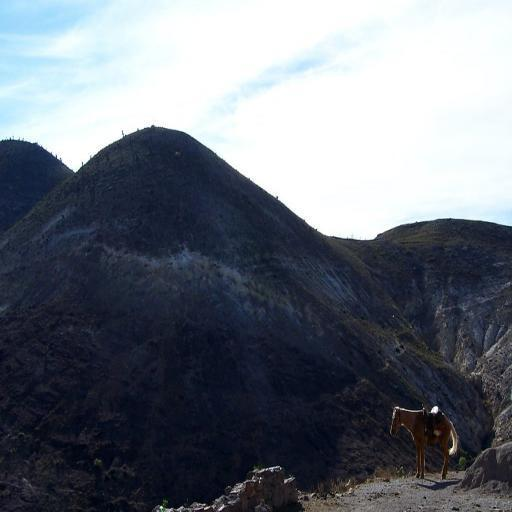horse: (389, 406, 457, 484)
